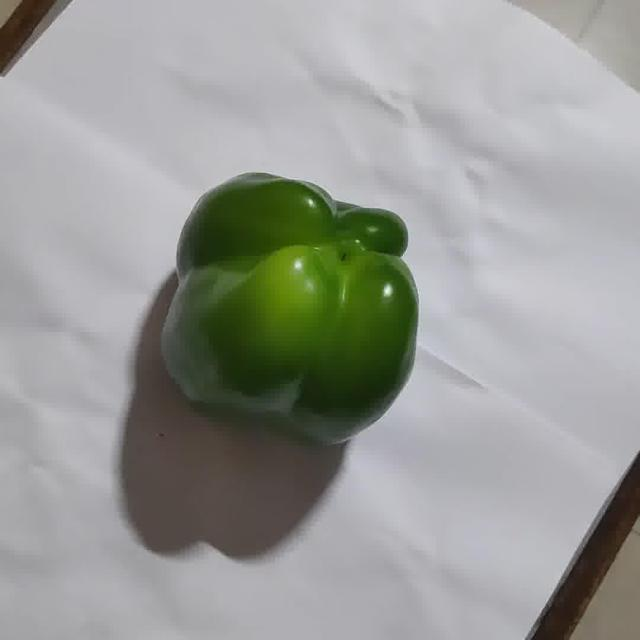Bell Pepper: (162, 173, 418, 447)
